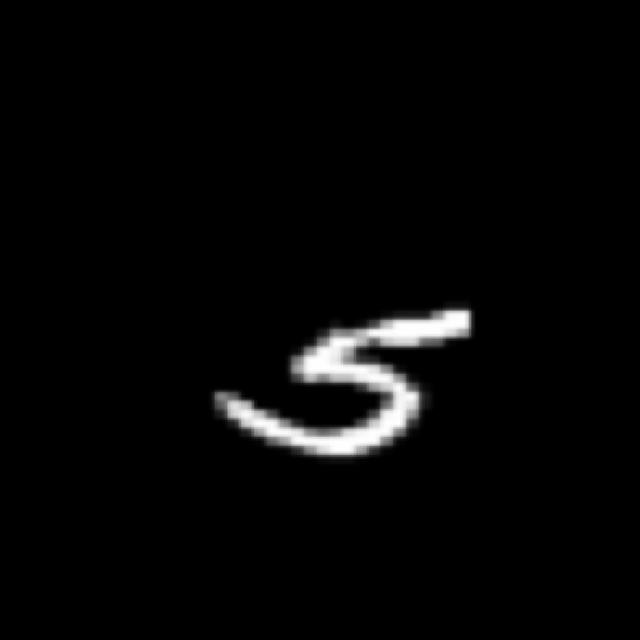five -5-: (213, 303, 487, 464)
